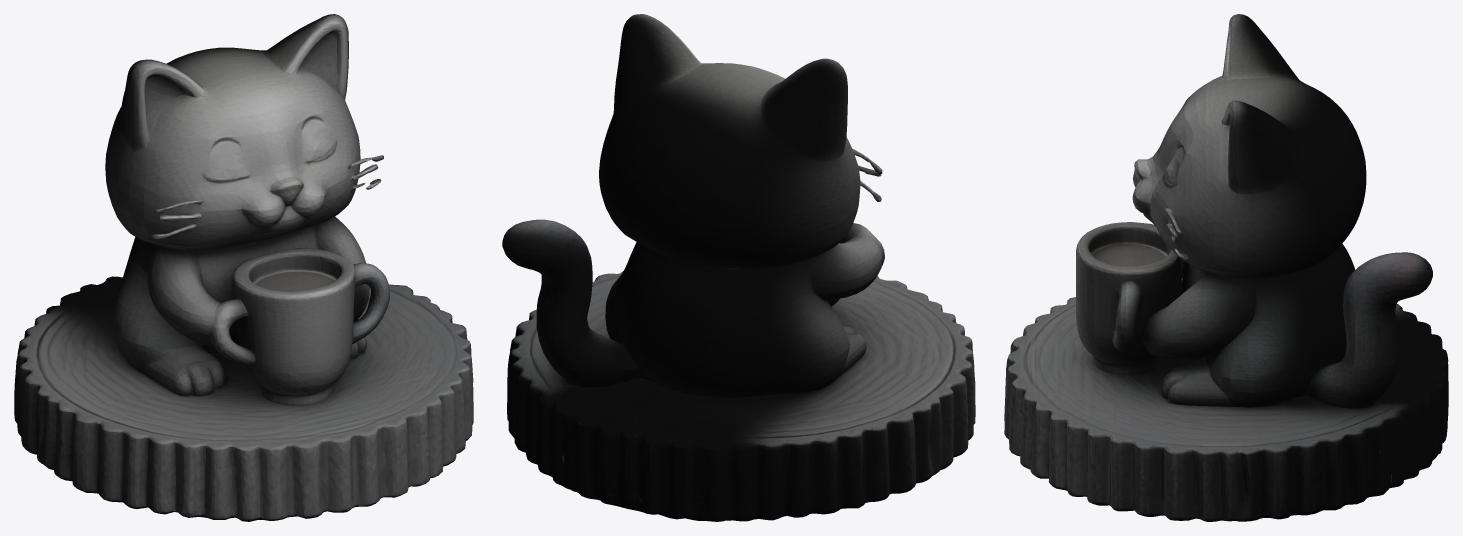
Rendered from Manex3D-generated-model_3d2a9e342fc5_1764362062908.glb.
3 views of the same model, side by side, from view 1: azimuth 30°, elevation 25°; view 2: azimuth 150°, elevation 25°; view 3: azimuth 270°, elevation 25° (orthographic). The views are drawn at different scales.
Visible parts, largest first — view 1: world; view 2: world; view 3: world.
Part boxes in pixels (x1,y1,x2,y2): world: (14,14,473,521); world: (502,14,975,521); world: (1004,14,1448,521).
Size of the model in its own units: 0.985 by 0.9165 by 0.9878.
Materials: 1 (1 with a texture image).
